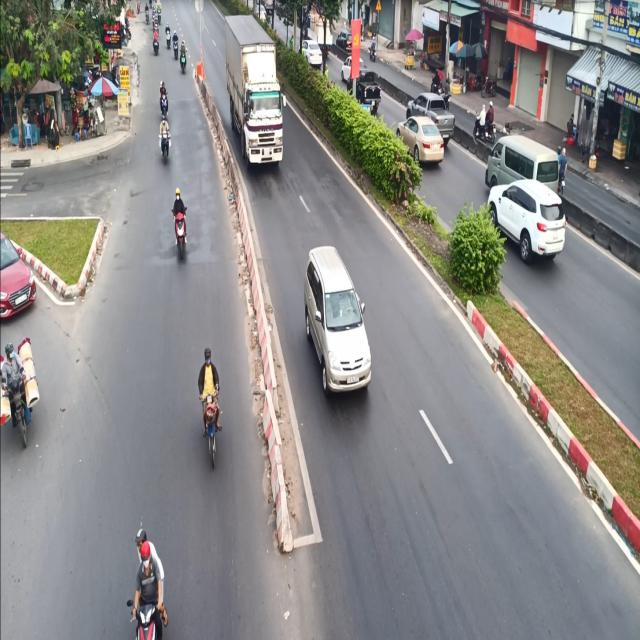car: (304, 240, 374, 413)
motorbike: (121, 526, 164, 640), (192, 342, 228, 470), (2, 340, 32, 444), (170, 186, 192, 255), (158, 112, 176, 158)
truck: (218, 7, 287, 177)
